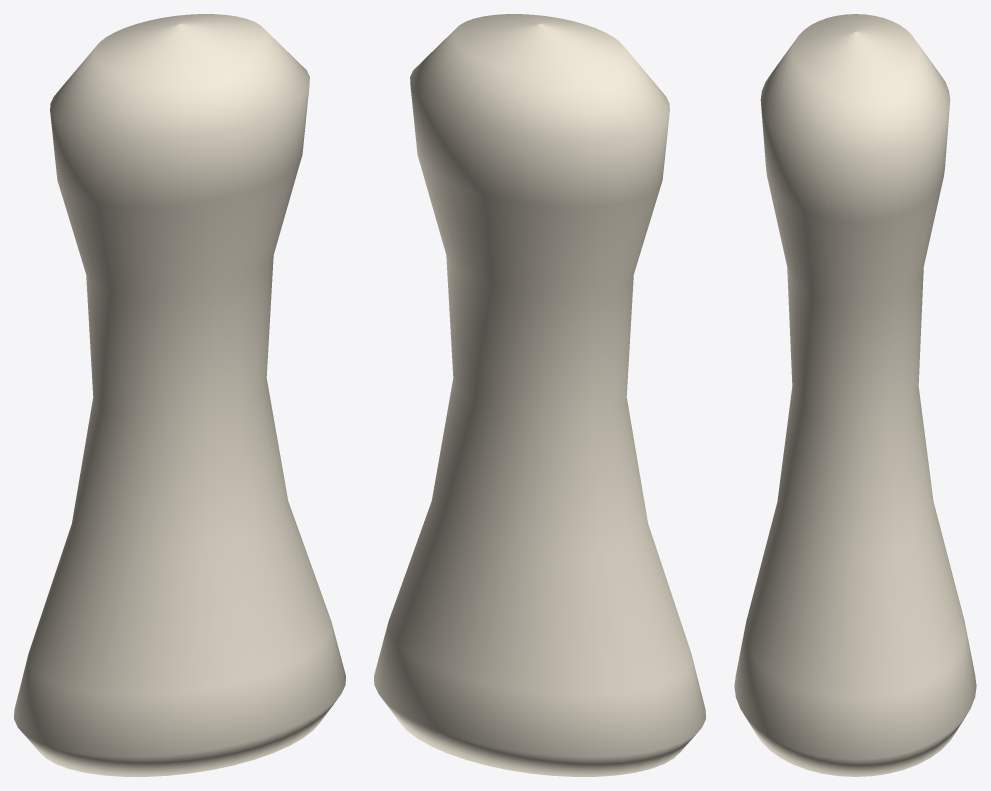
The model's file is phalanx-distal.glb.
3 views of the same model, side by side, from view 1: azimuth 30°, elevation 25°; view 2: azimuth 150°, elevation 25°; view 3: azimuth 270°, elevation 25° (orthographic). The views are drawn at different scales.
Visible parts, largest first — view 1: phalanx-distal; view 2: phalanx-distal; view 3: phalanx-distal.
Boxes of the visible parts, x1,y1,x2,y2 form: phalanx-distal: (14, 14, 345, 776); phalanx-distal: (374, 14, 705, 776); phalanx-distal: (734, 14, 976, 776).
Bounding box in the file's own units: 0.46 × 1 × 0.322.
